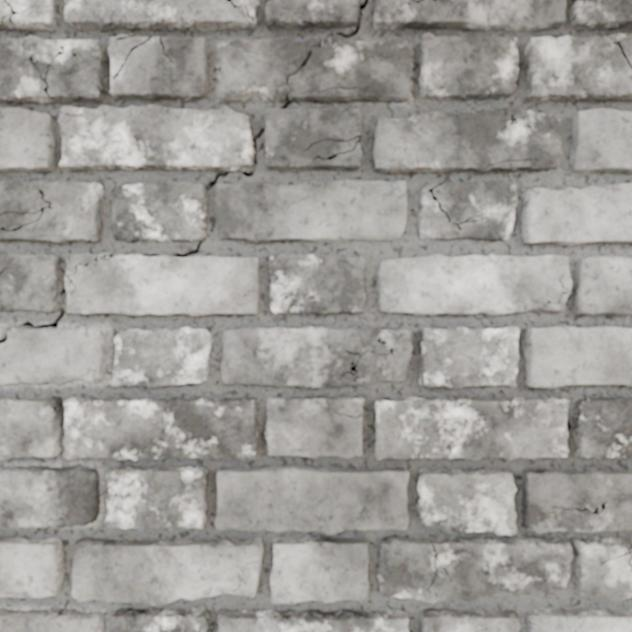brick: (376, 469, 631, 603), (0, 396, 257, 459), (216, 466, 408, 533), (72, 538, 262, 605), (59, 105, 252, 170), (372, 107, 562, 172), (374, 397, 568, 459), (215, 180, 406, 242), (376, 254, 571, 314), (65, 255, 259, 315), (222, 327, 411, 387), (525, 34, 631, 102), (0, 36, 106, 103), (522, 469, 631, 532), (522, 184, 631, 245), (524, 326, 631, 386), (420, 33, 517, 99), (105, 467, 206, 530), (271, 536, 367, 602), (265, 107, 361, 171), (265, 395, 364, 457), (0, 181, 102, 241), (110, 37, 207, 99), (110, 327, 211, 386), (374, 0, 565, 31), (420, 327, 518, 387), (64, 0, 258, 30), (418, 181, 516, 240), (268, 254, 364, 313), (111, 182, 206, 241), (218, 609, 408, 631), (570, 109, 631, 173), (0, 538, 63, 596), (0, 253, 60, 311), (573, 398, 631, 458), (0, 108, 55, 170), (573, 256, 631, 314), (266, 0, 359, 29), (0, 607, 105, 631), (527, 609, 631, 631), (110, 608, 209, 631), (421, 609, 519, 631), (569, 0, 631, 29), (0, 0, 59, 29), (108, 37, 145, 77), (65, 254, 102, 272), (0, 214, 38, 228), (0, 0, 9, 18)
broken_brick: (217, 36, 411, 103), (0, 463, 100, 528), (0, 326, 107, 386)
crack: (285, 21, 360, 89), (427, 181, 487, 231), (0, 188, 53, 232), (64, 253, 117, 296), (111, 37, 151, 80), (304, 134, 361, 162), (238, 127, 265, 177), (13, 306, 65, 329), (0, 0, 35, 25), (600, 543, 631, 571), (546, 273, 571, 304), (169, 237, 205, 258), (225, 0, 254, 21), (613, 38, 631, 71), (204, 170, 230, 190), (159, 36, 173, 62), (404, 0, 424, 13), (114, 33, 140, 41), (334, 411, 362, 418), (357, 0, 369, 16), (60, 110, 83, 117), (280, 95, 291, 109), (0, 329, 8, 344), (473, 627, 489, 631), (0, 266, 7, 275), (60, 286, 66, 295), (142, 254, 158, 257), (407, 79, 409, 88)
